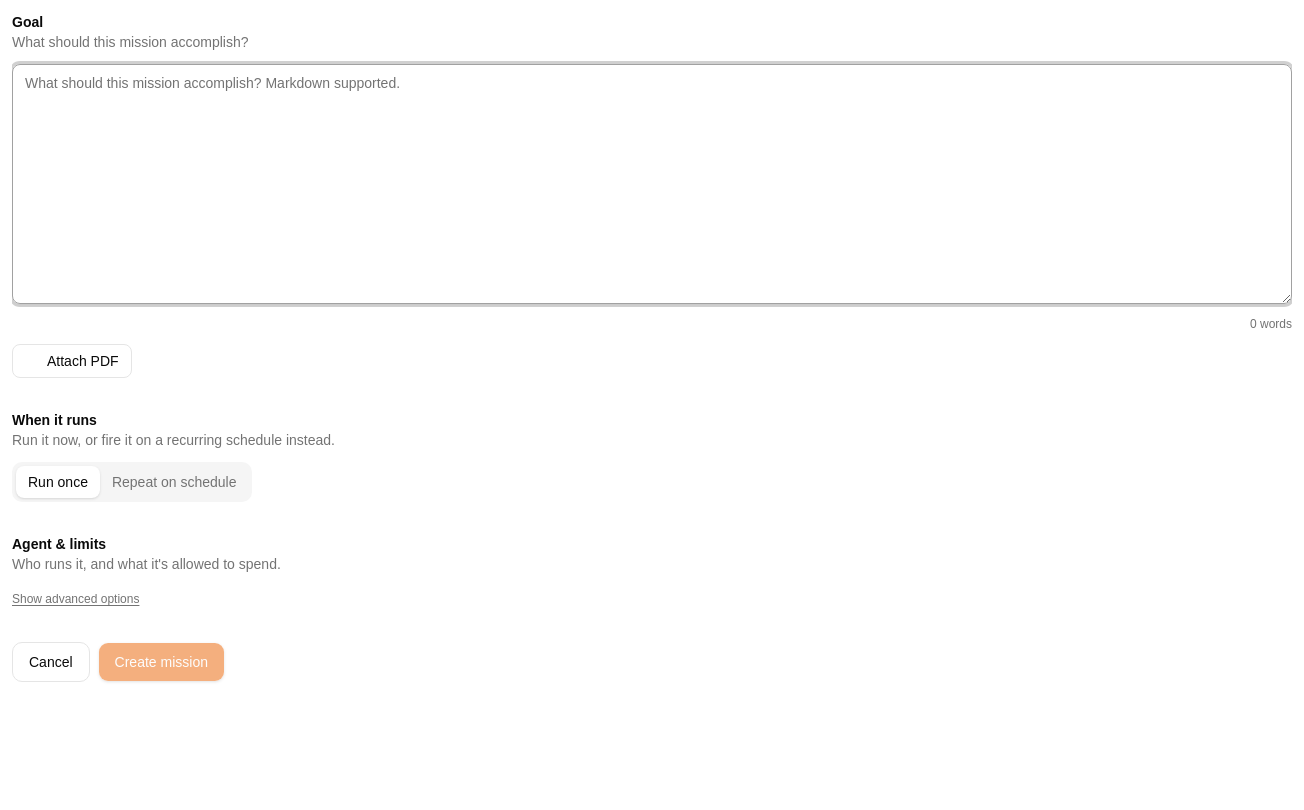
MissionForm — harness select placement › shows the harness select in the main form body for a coding mission, without expanding Advanced
Type "g" into the text box named "Goal" at {"x": 652, "y": 184}, box [12,64,1292,304]
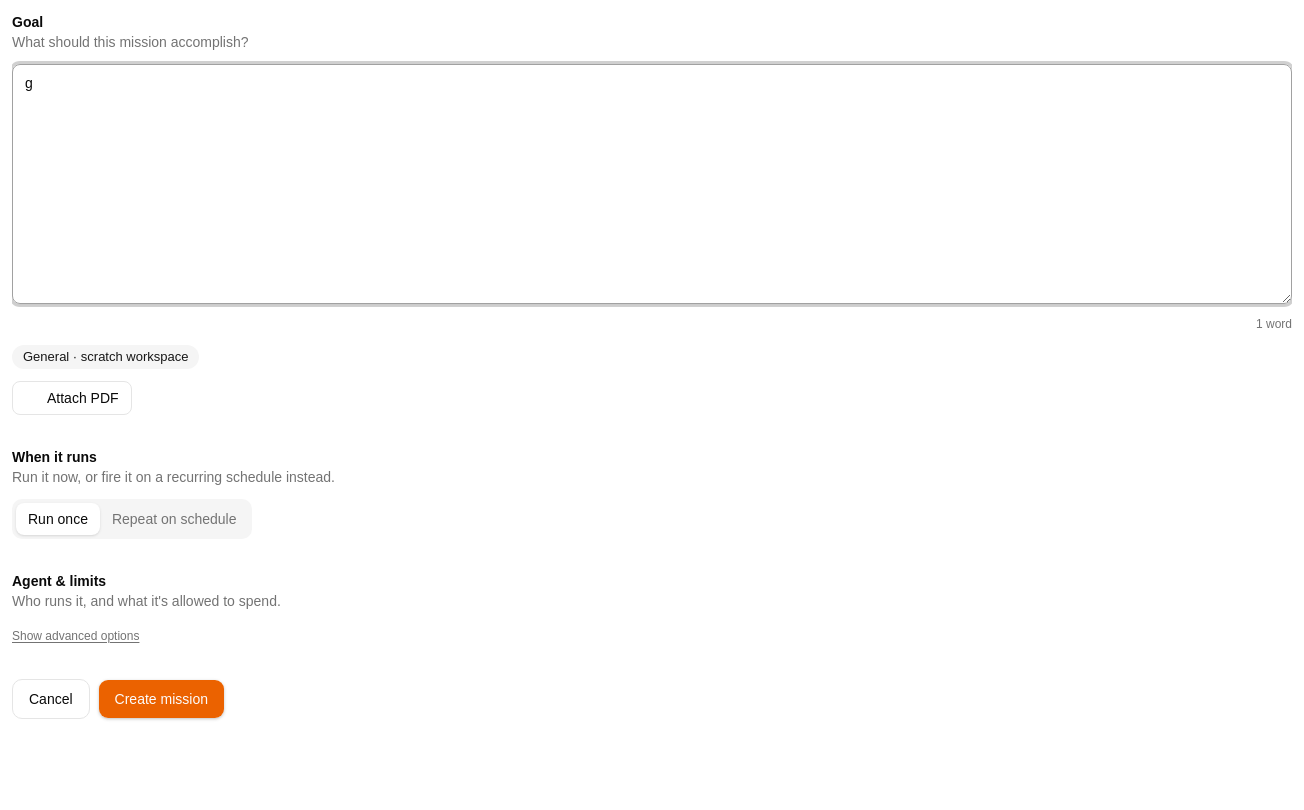
Click the button "General · scratch workspace" at {"x": 106, "y": 356}, box [12,344,200,369]
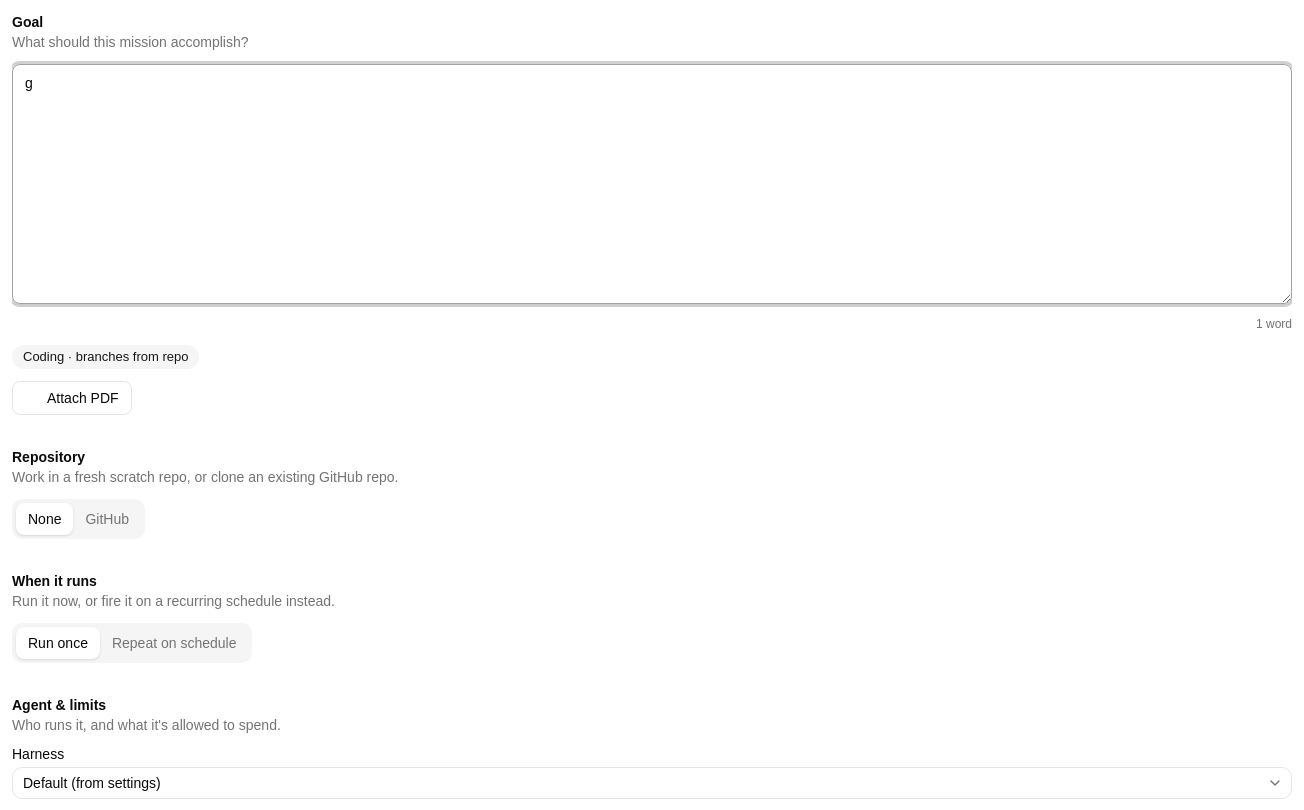
expect the text "Coding · branches from repo" is shown: met, box [12,345,200,369]
expect the dropdown named "Harness" is shown: met, box [12,767,1292,799]
